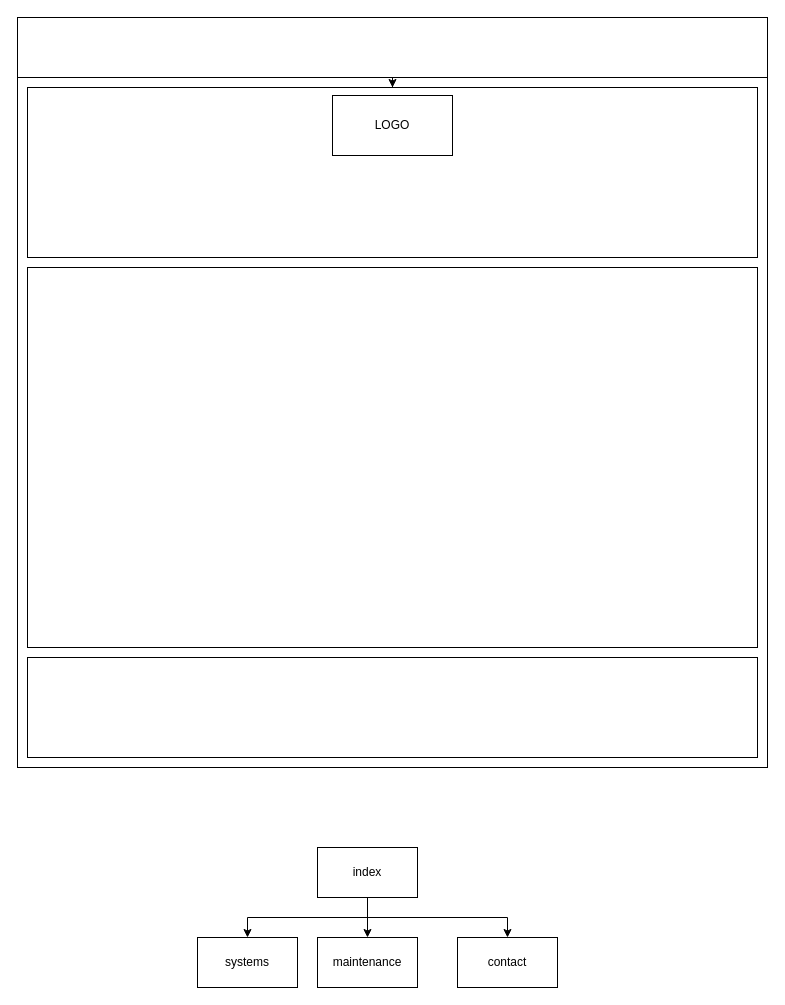
Some shapes in this 785 by 1005 pixel diagram are drawn without their labels. The box of each missing label's shape, as (x1, y1, x2, y2) in pixels:
CONTENT: (26, 266, 758, 648)
FOOTER: (26, 656, 758, 758)
HEADER: (26, 86, 758, 258)
